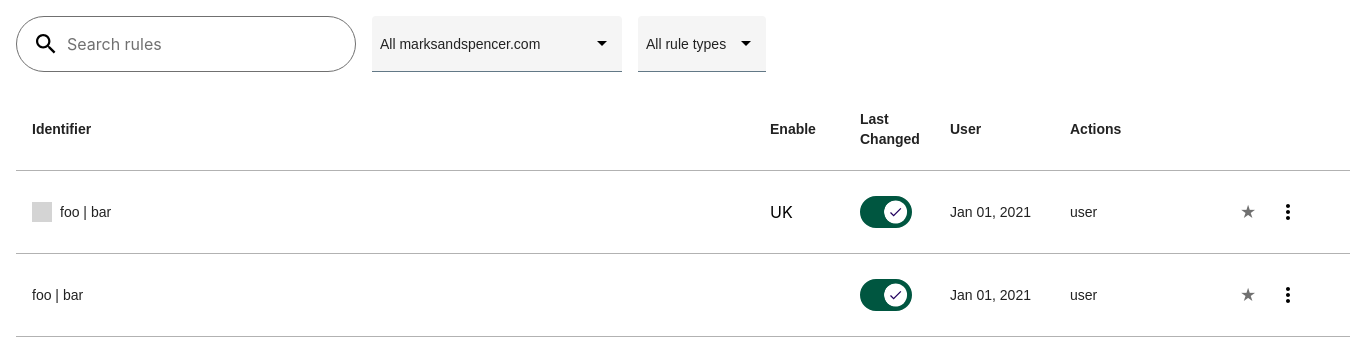
Scenario: TablePanel › favourite functionality › should toggle a favourite and update button label
Click the button titled "Add to favourites" in the row of "UK" at (1248, 212), box [1228,188,1268,236]
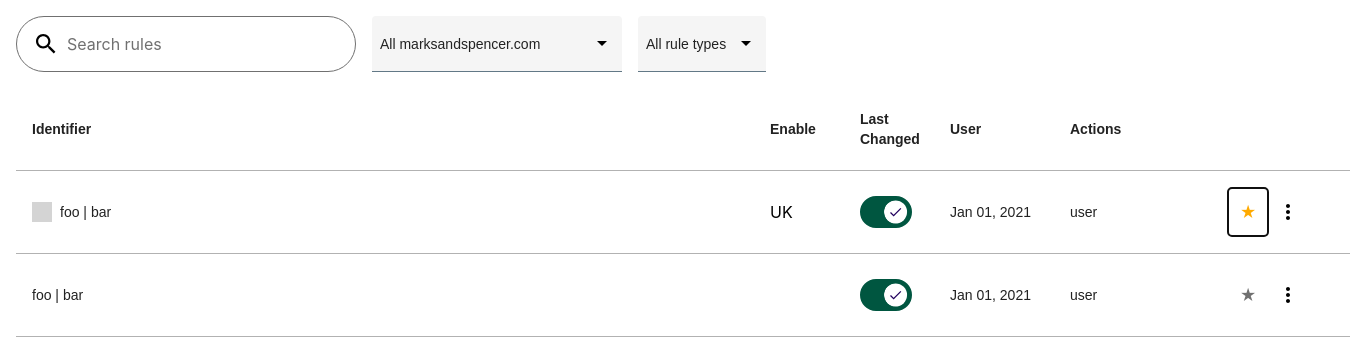
Check: the button titled "Remove from favourites" in the row of "UK" is shown, box [1228,188,1268,236]
